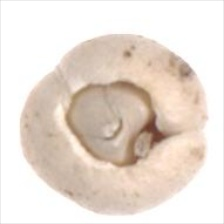L3: (60, 82, 169, 163)
L4: (20, 33, 208, 216)
